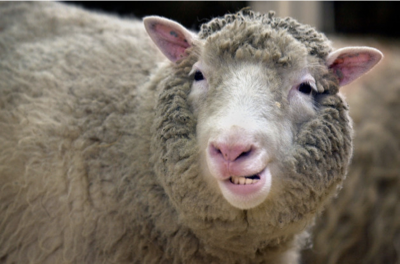koyun: (144, 9, 383, 225)
